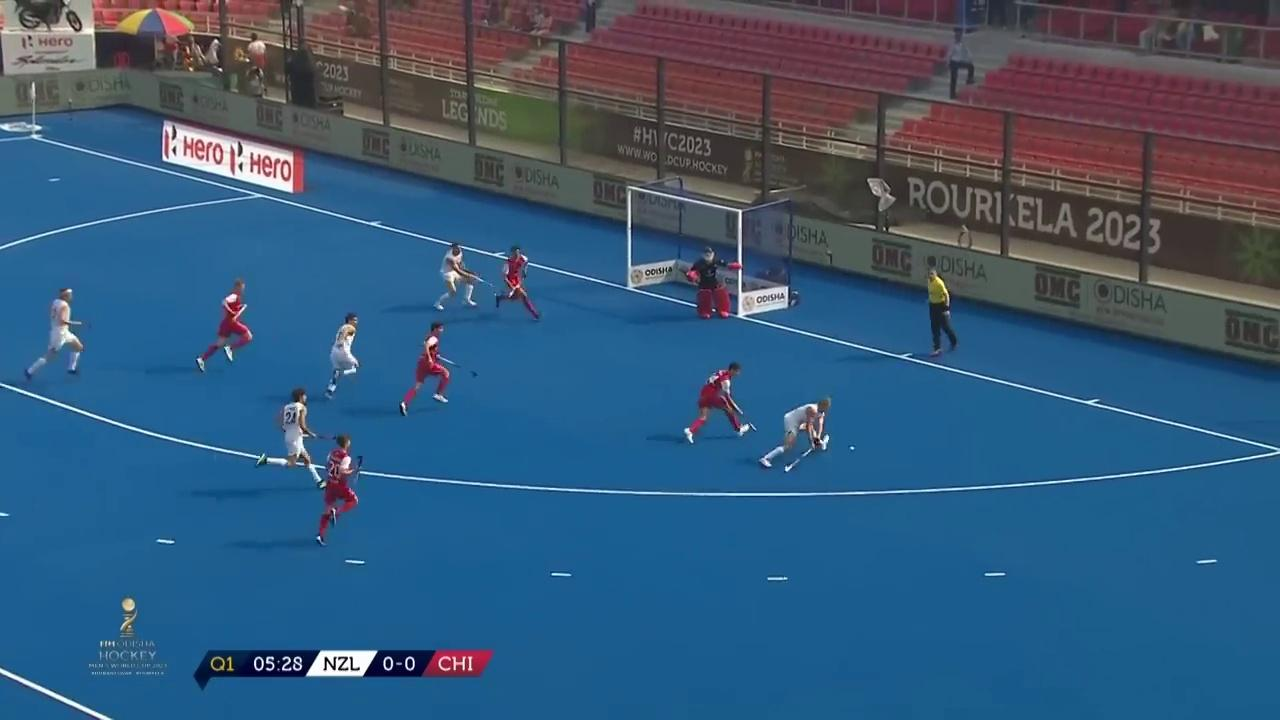ball: (847, 438, 857, 454)
